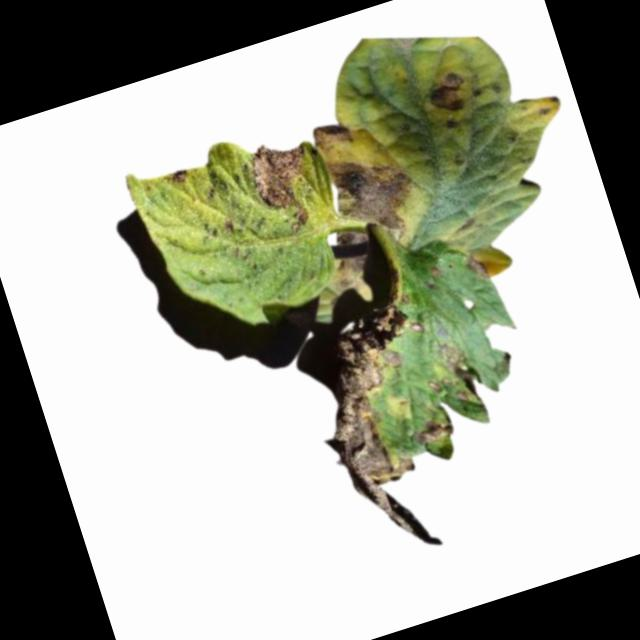Early_blight: (301, 299, 483, 566), (329, 150, 424, 244), (243, 134, 327, 240), (426, 336, 488, 410), (325, 224, 382, 289), (421, 66, 472, 118), (308, 114, 359, 156), (464, 248, 496, 284), (164, 165, 195, 189), (444, 115, 463, 134)
